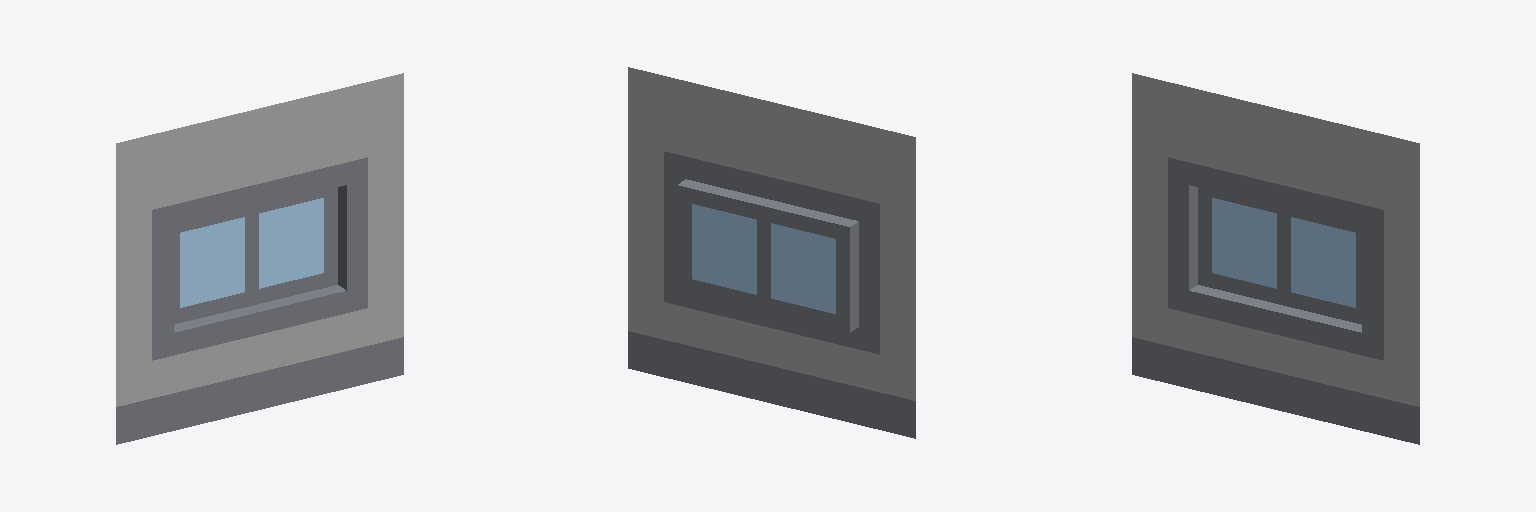
Rendered from wall_windowC.obj.
3 renders of one model, left to right at view 1: azimuth 30°, elevation 25°; view 2: azimuth 150°, elevation 25°; view 3: azimuth 330°, elevation 25°, orthographic.
Visible parts, largest first — view 1: wall_windowC; view 2: wall_windowC; view 3: wall_windowC.
Boxes of the visible parts, box(x1,y1,x2,y2) form: wall_windowC: box(116, 73, 403, 444); wall_windowC: box(628, 67, 915, 438); wall_windowC: box(1132, 73, 1419, 444).
Bounding box in the file's own units: 0.4 × 0.4 × 0.02.